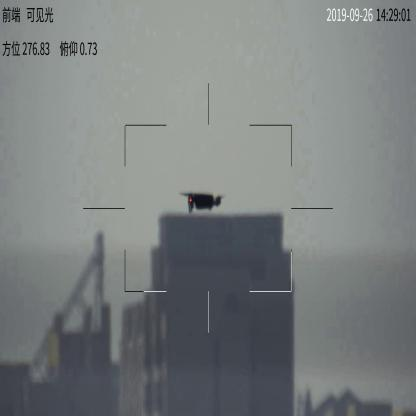uav: (178, 187, 232, 216)
